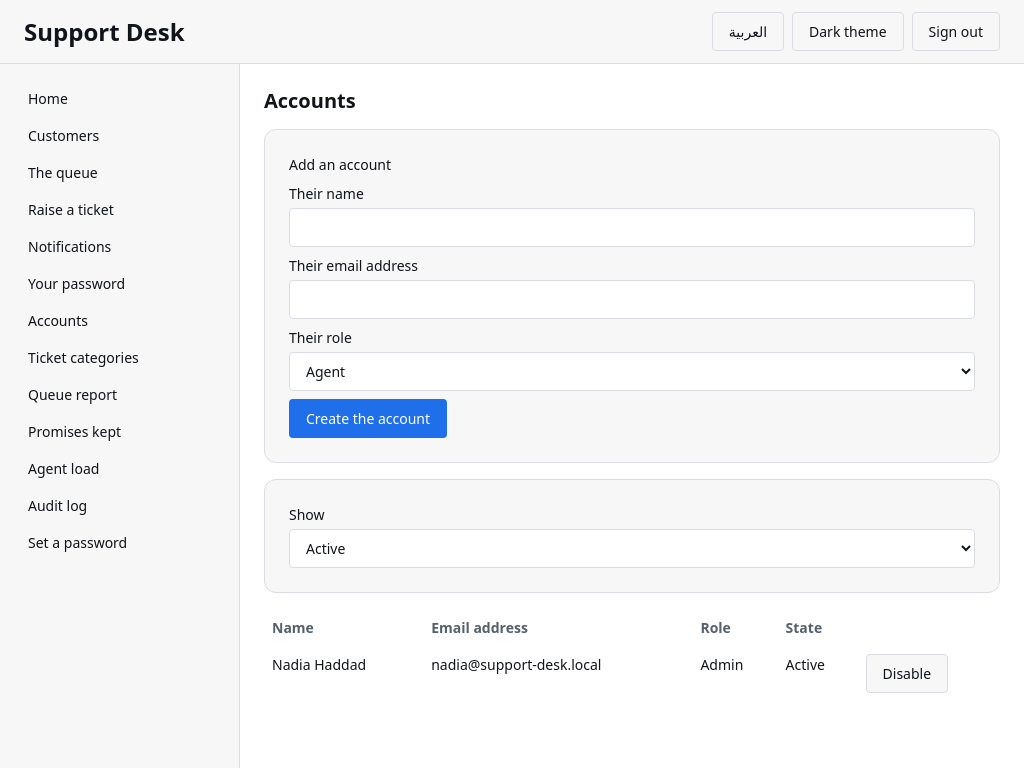
Scenario: the disabled accounts are reachable, and each offers the verb that brings it back
Expected: the text "Nadia Haddad" is shown, [264,646,423,701]
Select "Disabled" in the dropdown labelled "Show" at x=632, y=548, box [289,529,975,568]
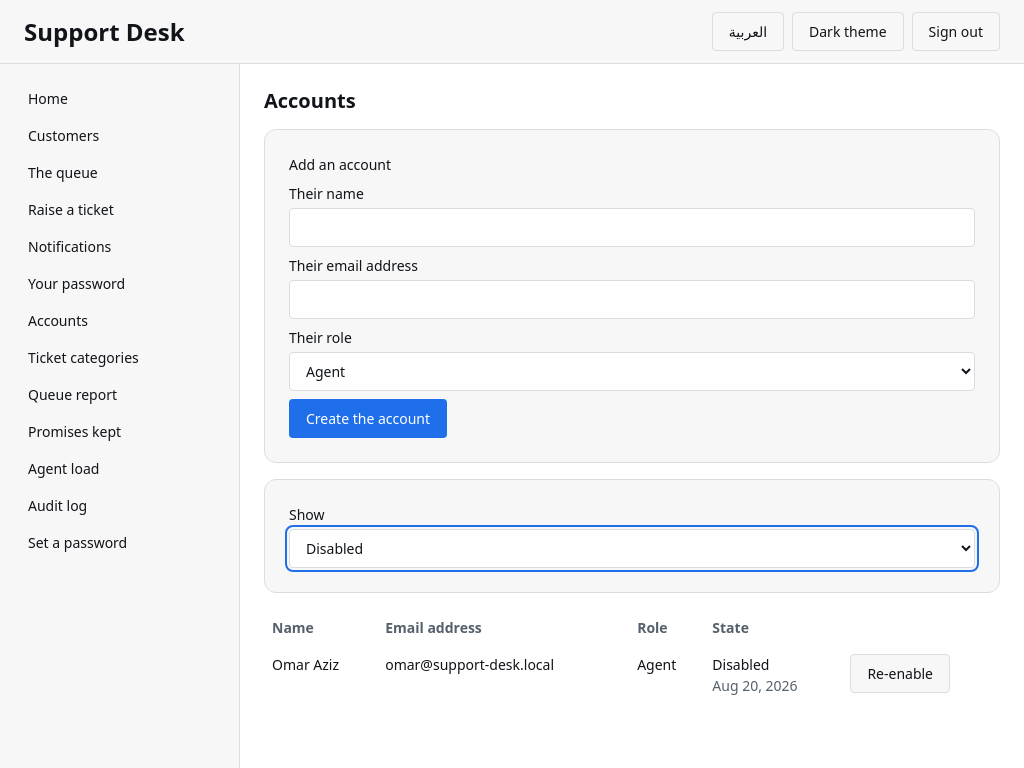
Expected: the text "Disabled" is shown, [712,655,769,674]
Expected: the button "Re-enable" is shown, [850,654,950,693]
